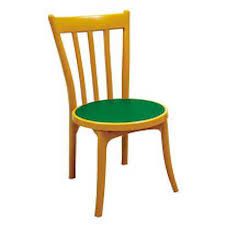chair: (36, 4, 226, 222)
